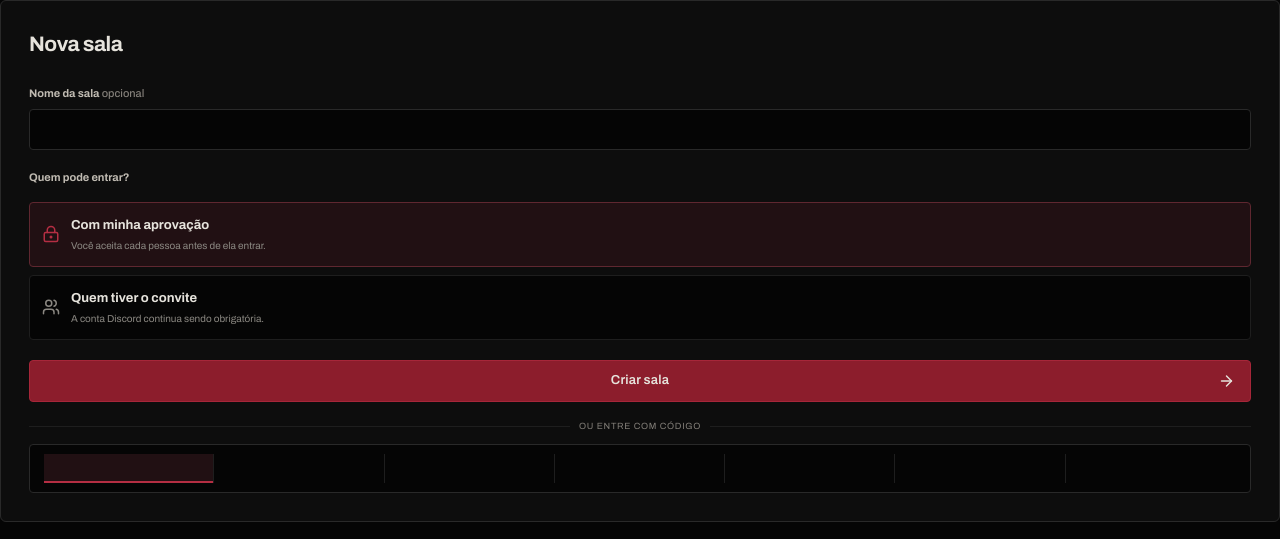
Test: CreateRoomForm room code › ignores ambiguous characters instead of submitting an invalid code
In the field named "Código da sala, 7 caracteres": {"x": 640, "y": 468} [30,445,1250,492], type "I0O1-FH2"
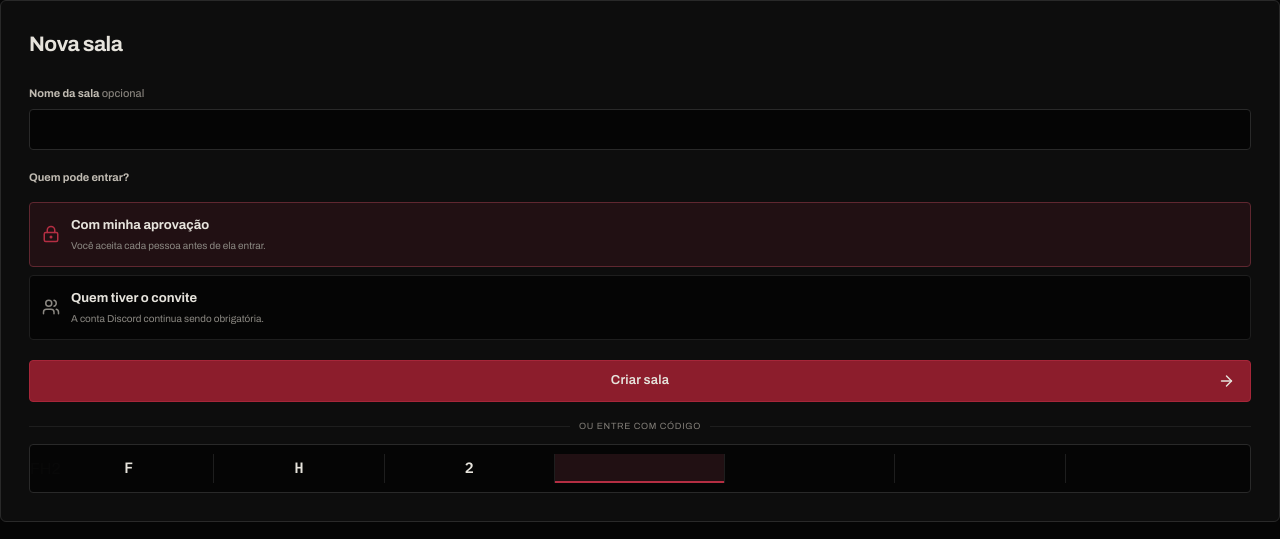
Result: the field named "Código da sala, 7 caracteres" holds "FH2" at [30,445,1250,492]
